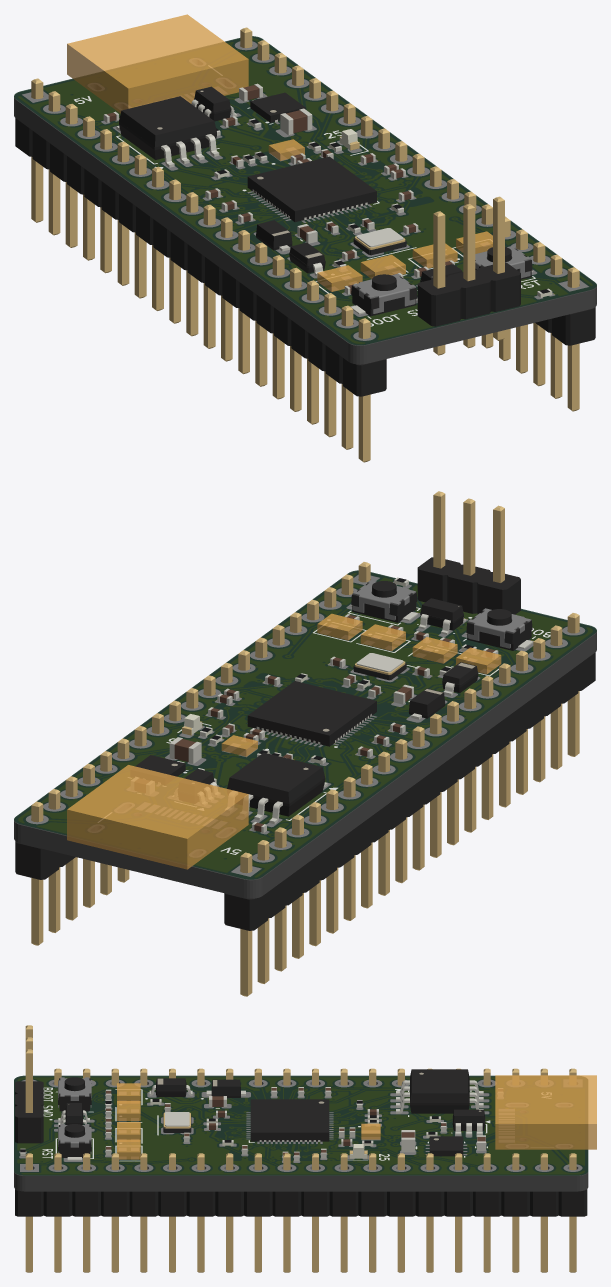
The model's file is board.glb.
3 renders of one model, top to bottom at view 1: azimuth 30°, elevation 25°; view 2: azimuth 150°, elevation 25°; view 3: azimuth 270°, elevation 25°, orthographic. The views are drawn at different scales.
Visible parts, largest first — view 1: easy2350_soldermask, PinHeader_1x20_P2.54mm_Vertical (×2), easy2350_PCB, easy2350_copper, J1, PinHeader_1x03_P2.54mm_Vertical, easy2350_pad, QFN-56-1EP_7x7mm_P0.4mm_EP5.6x5.6mm, SOIC-8_5.3x5.3mm_P1.27mm, SW_SPST_TS-1088-xR020 (×2), Crystal_SMD_3225-4Pin_3.2x2.5mm, SOT-23-6 (+8 smaller); view 2: easy2350_soldermask, PinHeader_1x20_P2.54mm_Vertical (×2), easy2350_PCB, easy2350_copper, J1, easy2350_pad, PinHeader_1x03_P2.54mm_Vertical, QFN-56-1EP_7x7mm_P0.4mm_EP5.6x5.6mm, SOIC-8_5.3x5.3mm_P1.27mm, SW_SPST_TS-1088-xR020 (×2), SOT-23-5, SOT-23-6 (+10 smaller); view 3: easy2350_soldermask, PinHeader_1x20_P2.54mm_Vertical (×2), easy2350_PCB, easy2350_copper, J1, easy2350_pad, QFN-56-1EP_7x7mm_P0.4mm_EP5.6x5.6mm, SOIC-8_5.3x5.3mm_P1.27mm, PinHeader_1x03_P2.54mm_Vertical, SW_SPST_TS-1088-xR020 (×2), easy2350_silkscreen, SOT-23-6 (+11 smaller).
Boxes of the visible parts, bbox=[...] form: easy2350_soldermask: bbox=[14, 36, 596, 345]; PinHeader_1x20_P2.54mm_Vertical (×2): bbox=[15, 27, 595, 462]; easy2350_PCB: bbox=[14, 37, 596, 364]; easy2350_copper: bbox=[19, 38, 592, 343]; J1: bbox=[67, 14, 248, 113]; PinHeader_1x03_P2.54mm_Vertical: bbox=[417, 196, 520, 355]; easy2350_pad: bbox=[22, 41, 588, 340]; QFN-56-1EP_7x7mm_P0.4mm_EP5.6x5.6mm: bbox=[247, 156, 376, 222]; SOIC-8_5.3x5.3mm_P1.27mm: bbox=[116, 96, 219, 167]; SW_SPST_TS-1088-xR020 (×2): bbox=[351, 245, 533, 316]; Crystal_SMD_3225-4Pin_3.2x2.5mm: bbox=[353, 228, 406, 255]; SOT-23-6: bbox=[191, 86, 237, 121]; easy2350_soldermask: bbox=[14, 570, 596, 879]; PinHeader_1x20_P2.54mm_Vertical (×2): bbox=[15, 562, 595, 996]; easy2350_PCB: bbox=[14, 571, 596, 898]; easy2350_copper: bbox=[18, 573, 592, 877]; J1: bbox=[67, 765, 248, 869]; easy2350_pad: bbox=[26, 575, 585, 876]; PinHeader_1x03_P2.54mm_Vertical: bbox=[417, 491, 520, 614]; QFN-56-1EP_7x7mm_P0.4mm_EP5.6x5.6mm: bbox=[247, 681, 376, 746]; SOIC-8_5.3x5.3mm_P1.27mm: bbox=[225, 752, 327, 824]; SW_SPST_TS-1088-xR020 (×2): bbox=[350, 580, 533, 650]; SOT-23-5: bbox=[418, 598, 465, 634]; SOT-23-6: bbox=[172, 769, 219, 805]; easy2350_soldermask: bbox=[14, 1075, 588, 1175]; PinHeader_1x20_P2.54mm_Vertical (×2): bbox=[15, 1068, 587, 1272]; easy2350_PCB: bbox=[14, 1077, 588, 1191]; easy2350_copper: bbox=[18, 1078, 584, 1173]; J1: bbox=[495, 1075, 596, 1149]; easy2350_pad: bbox=[19, 1079, 582, 1171]; QFN-56-1EP_7x7mm_P0.4mm_EP5.6x5.6mm: bbox=[250, 1099, 329, 1141]; SOIC-8_5.3x5.3mm_P1.27mm: bbox=[396, 1069, 483, 1113]; PinHeader_1x03_P2.54mm_Vertical: bbox=[15, 1025, 43, 1143]; SW_SPST_TS-1088-xR020 (×2): bbox=[58, 1077, 91, 1160]; easy2350_silkscreen: bbox=[42, 1087, 551, 1161]; SOT-23-6: bbox=[452, 1109, 485, 1135].
Size of the model in its own units: 0.021 by 0.0188 by 0.0518.
